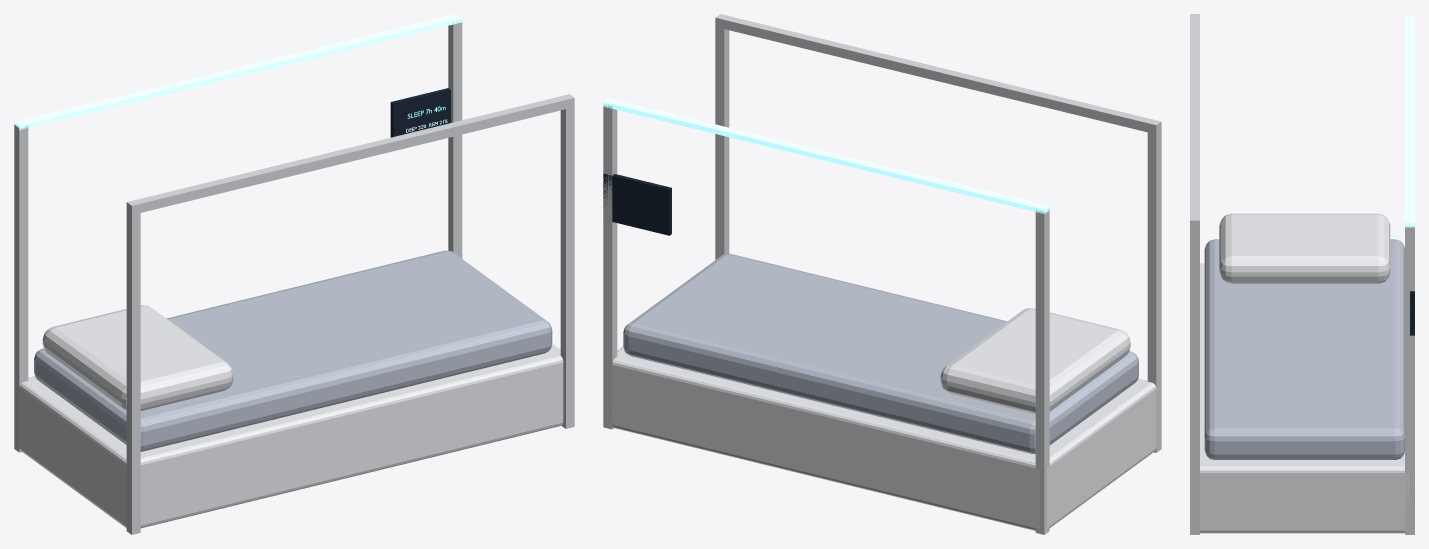
The model's file is sleep_bunk.glb.
The picture shows the model from 3 angles, left to right: view 1: azimuth 30°, elevation 25°; view 2: azimuth 150°, elevation 25°; view 3: azimuth 270°, elevation 25°; orthographic projection. The views are drawn at different scales.
Parts seen in each view (by area): view 1: Mattress, Bunk_Frame, Pillow, Curtain_Rail, Post_FL, Post_FR, Mood_Light_Strip, Post_L, Post_R, Bunk_Panel; view 2: Mattress, Bunk_Frame, Pillow, Curtain_Rail, Mood_Light_Strip, Post_L, Post_FL, Post_R, Post_FR, Bunk_Panel; view 3: Mattress, Bunk_Frame, Pillow, Post_FR, Post_R, Curtain_Rail, Mood_Light_Strip.
Part boxes in pixels (x1,y1,x2,y2): Mattress: (34, 250, 552, 451); Bunk_Frame: (19, 344, 563, 528); Pillow: (42, 305, 233, 410); Curtain_Rail: (126, 94, 574, 214); Post_FL: (126, 207, 140, 534); Post_FR: (560, 104, 574, 428); Mood_Light_Strip: (14, 14, 462, 130); Post_L: (14, 125, 28, 452); Post_R: (448, 20, 462, 258); Bunk_Panel: (390, 88, 450, 137); Mattress: (623, 253, 1138, 453); Bunk_Frame: (608, 347, 1156, 530); Pillow: (940, 308, 1130, 413); Curtain_Rail: (715, 14, 1161, 134); Mood_Light_Strip: (603, 98, 1049, 214); Post_L: (1035, 208, 1049, 534); Post_FL: (1147, 126, 1161, 452); Post_R: (603, 105, 617, 429); Post_FR: (715, 23, 729, 259); Bunk_Panel: (603, 173, 671, 235); Mattress: (1204, 239, 1404, 459); Bunk_Frame: (1200, 263, 1409, 533); Pillow: (1219, 213, 1390, 283); Post_FR: (1190, 225, 1199, 534); Post_R: (1405, 225, 1414, 534); Curtain_Rail: (1190, 14, 1199, 229); Mood_Light_Strip: (1405, 16, 1414, 227).
Size of the model in its own units: 2 by 1.42 by 0.92.
